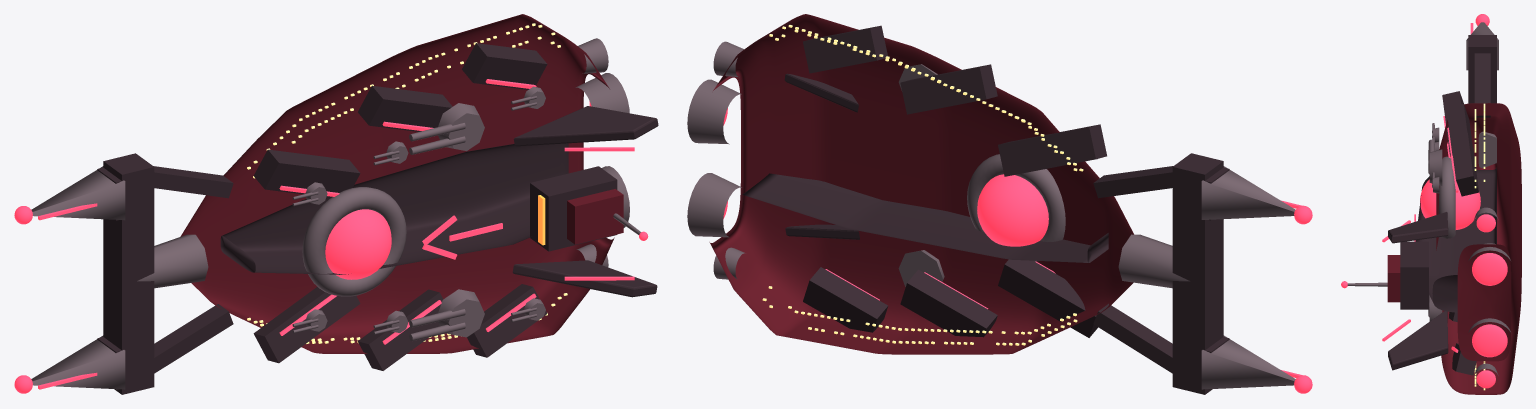
File: styx.glb
The picture shows the model from 3 angles, left to right: view 1: azimuth 30°, elevation 25°; view 2: azimuth 150°, elevation 25°; view 3: azimuth 270°, elevation 25°; orthographic projection. The views are drawn at different scales.
Parts seen in each view (by area): view 1: hull, spine, ram_crossbar, core_socket, ram_brace (×2), core, fin_L, bridge, armor_L0, armor_R0, armor_L1, prong_L (+12 smaller); view 2: hull, spine, ram_crossbar, core, ram_brace (×2), armor_L0, armor_R1, armor_R0, armor_L1, armor_R2, prong_R, prong_L (+11 smaller); view 3: hull, spine, bridge, fin_R, armor_L2, core, ram_crossbar, fin_L, core_socket, engine_R_glow, engine_L_glow, ram_brace (+12 smaller).
Part boxes in pixels (x1,y1,x2,y2): hull: [180, 14, 614, 353]; spine: [220, 143, 568, 274]; ram_crossbar: [103, 153, 154, 394]; core_socket: [302, 187, 406, 296]; ram_brace (×2): [153, 166, 233, 373]; core: [325, 209, 391, 279]; fin_L: [513, 106, 658, 146]; bridge: [530, 166, 617, 251]; armor_L0: [253, 149, 360, 197]; armor_R0: [253, 287, 360, 363]; armor_L1: [358, 85, 452, 131]; prong_L: [31, 166, 125, 220]; hull: [709, 14, 1134, 354]; spine: [742, 173, 1108, 262]; ram_crossbar: [1172, 153, 1223, 394]; core: [977, 174, 1048, 246]; ram_brace (×2): [1093, 166, 1173, 373]; armor_L0: [998, 124, 1106, 176]; armor_R1: [900, 269, 997, 337]; armor_R0: [998, 259, 1097, 337]; armor_L1: [900, 64, 997, 114]; armor_R2: [803, 267, 887, 332]; prong_R: [1201, 335, 1295, 389]; prong_L: [1201, 166, 1295, 219]; hull: [1436, 103, 1521, 394]; spine: [1415, 167, 1496, 312]; bridge: [1400, 241, 1428, 309]; fin_R: [1388, 311, 1448, 370]; armor_L2: [1450, 132, 1478, 196]; core: [1420, 179, 1480, 229]; ram_crossbar: [1468, 35, 1496, 103]; fin_L: [1388, 212, 1448, 243]; core_socket: [1438, 156, 1455, 238]; engine_R_glow: [1472, 324, 1507, 357]; engine_L_glow: [1472, 253, 1507, 285]; ram_brace: [1474, 53, 1490, 117].
Size of the model in its own units: 596 by 295 by 202.
